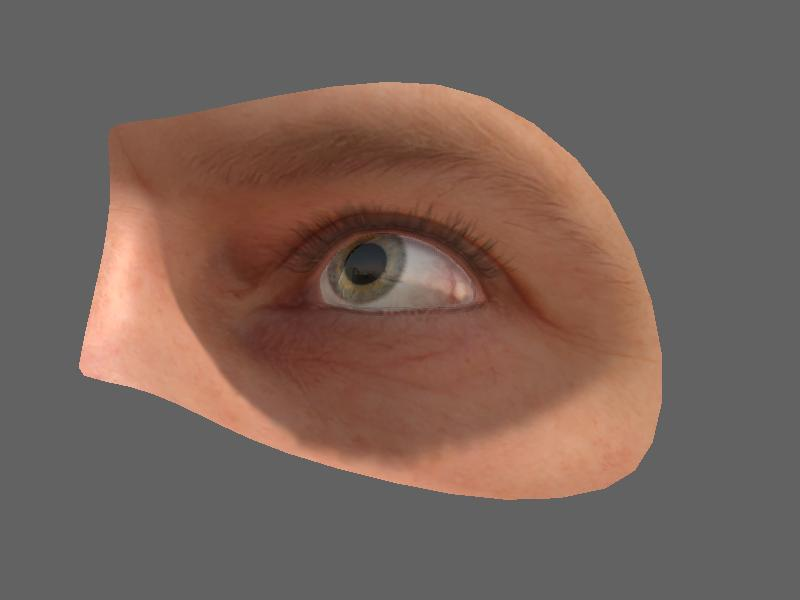iris: (336, 237, 405, 303)
